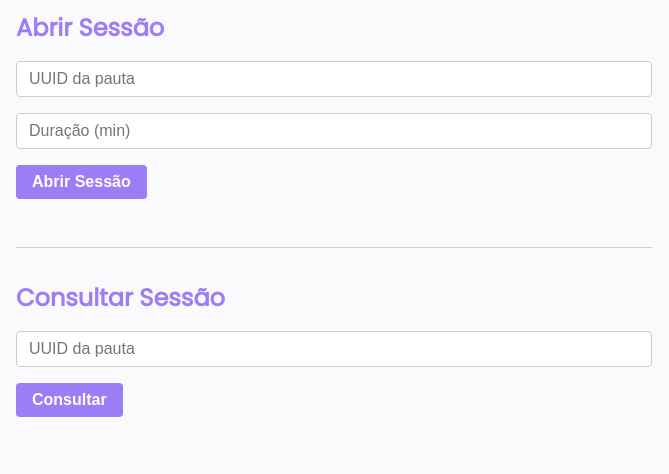
OpenVotingSession › exibe erro ao consultar com UUID inválido
Type "uuid-invalido" into the field with placeholder "UUID da pauta" below "Consultar Sessão". click: (334, 349)
box: [16,331,652,367]
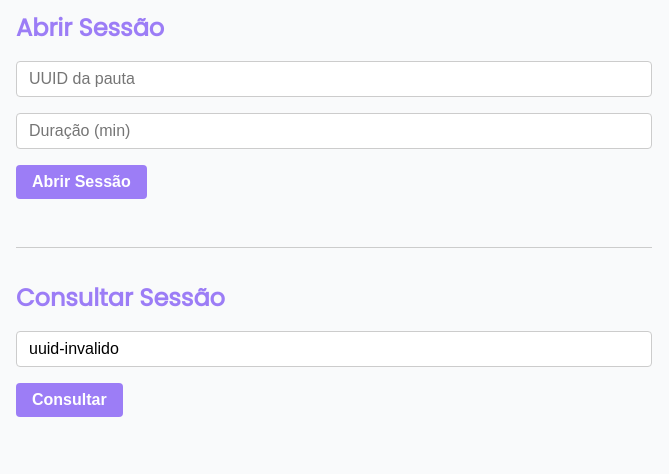
Click the button "Consultar". click: (69, 400)
box: [16,383,123,417]
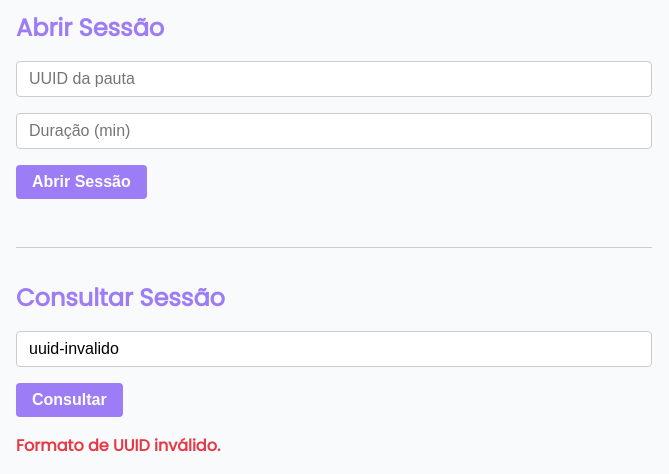
Expected: the text "Formato de UUID inválido." is shown, [16,434,220,457]
